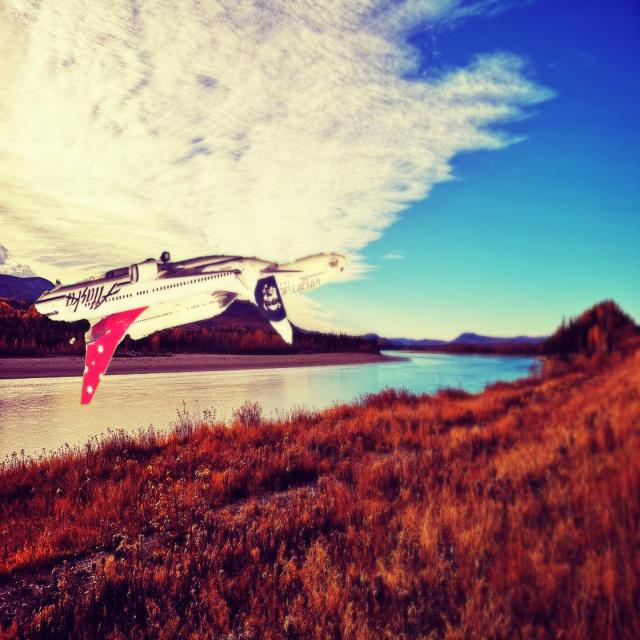airplane: (33, 250, 348, 406)
